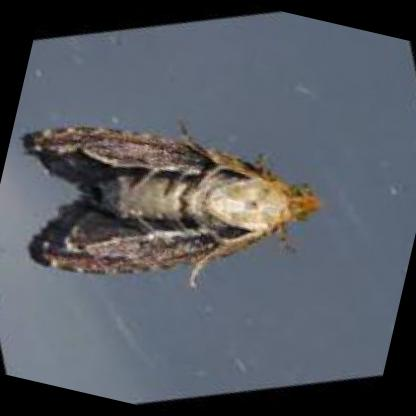Leaf Webber: (20, 115, 331, 282)
